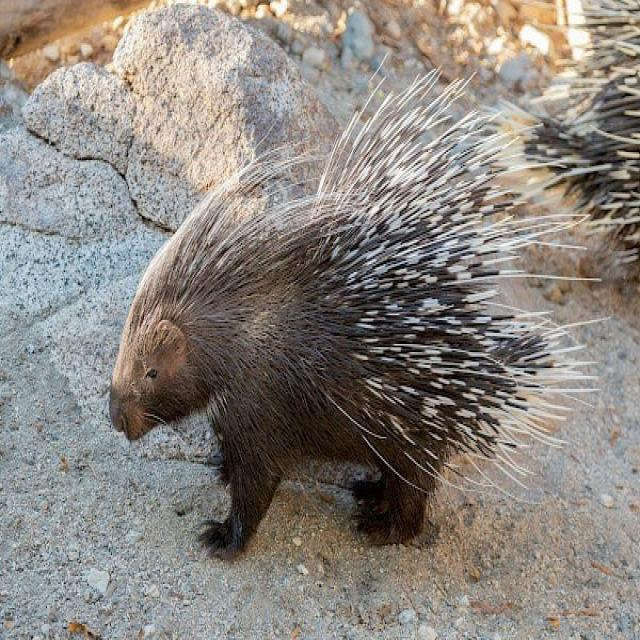porcupine: (110, 70, 565, 550)
